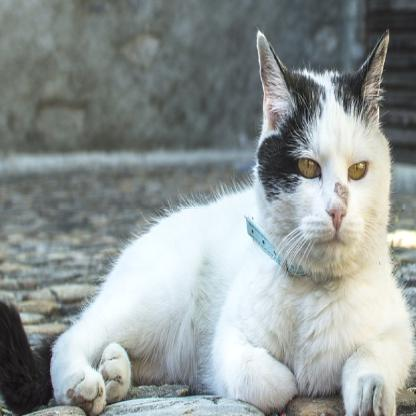cat: (0, 25, 416, 415)
